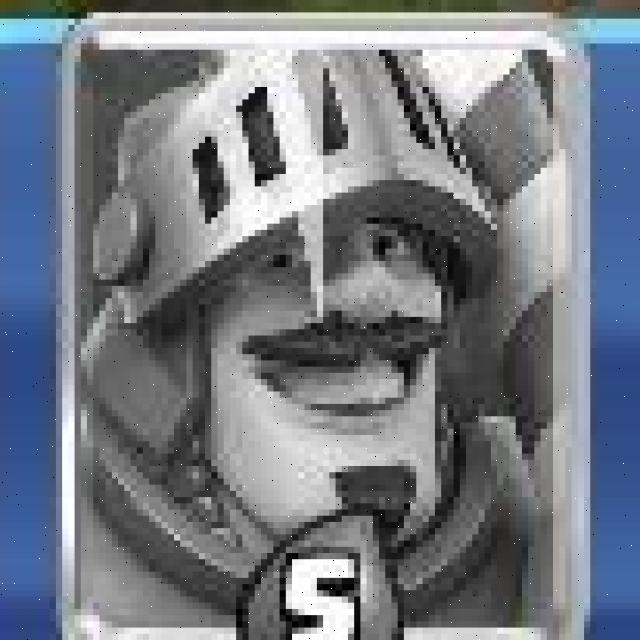Prince: (59, 17, 590, 639)
